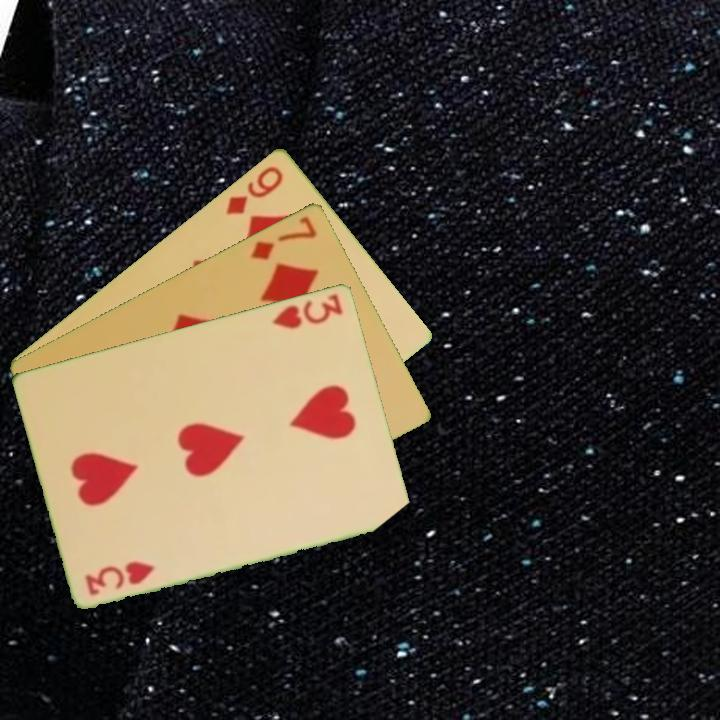3h: (269, 290, 346, 332), (81, 557, 158, 598)
7d: (247, 212, 320, 263)
9d: (221, 161, 286, 217)
